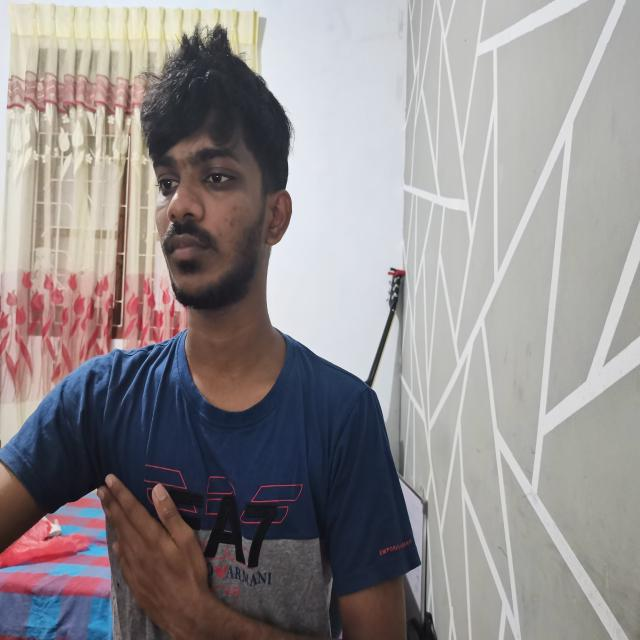Please: (96, 459, 420, 640)
